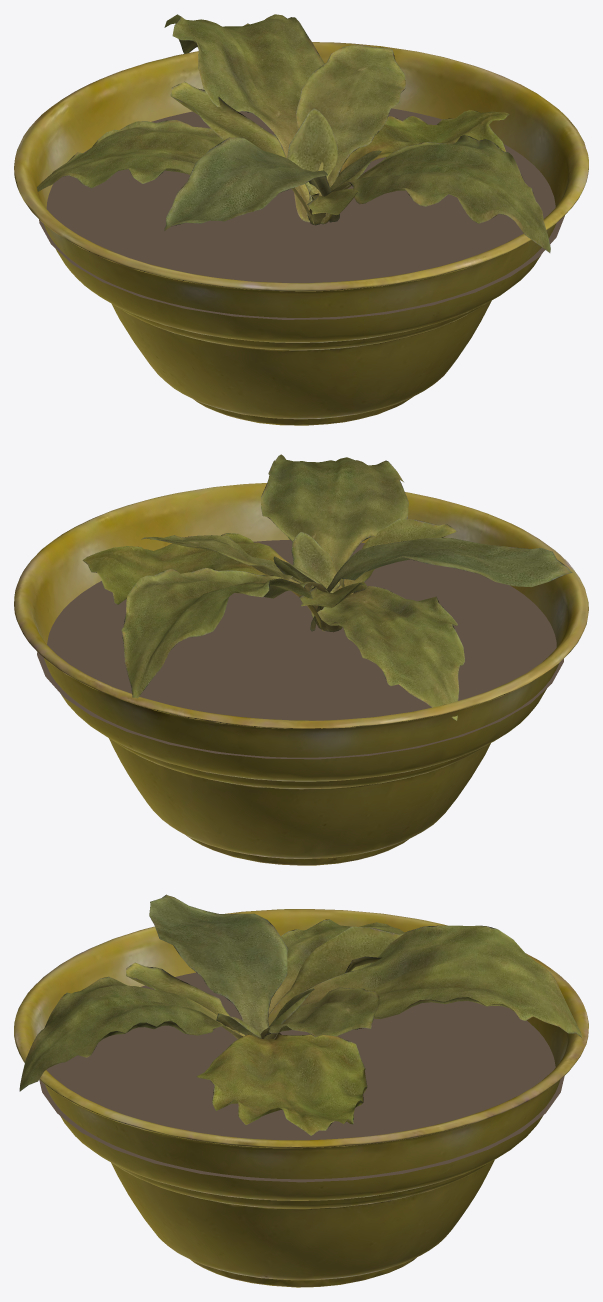
File: ph-iceplant-bowl.glb
The picture shows the model from 3 angles, top to bottom: view 1: azimuth 30°, elevation 25°; view 2: azimuth 150°, elevation 25°; view 3: azimuth 270°, elevation 25°; orthographic projection.
Visible parts, largest first — view 1: Ecoforms_Plant_Bowl_Atlas_Low, crystalline_iceplant_a_LOD0, soil; view 2: Ecoforms_Plant_Bowl_Atlas_Low, crystalline_iceplant_a_LOD0, soil; view 3: Ecoforms_Plant_Bowl_Atlas_Low, crystalline_iceplant_a_LOD0, soil.
Boxes of the visible parts, bbox=[...] form: Ecoforms_Plant_Bowl_Atlas_Low: bbox=[14, 42, 588, 425]; crystalline_iceplant_a_LOD0: bbox=[37, 14, 550, 252]; soil: bbox=[39, 108, 564, 319]; Ecoforms_Plant_Bowl_Atlas_Low: bbox=[14, 483, 588, 865]; crystalline_iceplant_a_LOD0: bbox=[82, 454, 572, 720]; soil: bbox=[37, 539, 563, 759]; Ecoforms_Plant_Bowl_Atlas_Low: bbox=[14, 909, 588, 1287]; crystalline_iceplant_a_LOD0: bbox=[19, 894, 581, 1135]; soil: bbox=[39, 972, 564, 1182].
Bounding box in the file's own units: 0.3219 × 0.1853 × 0.322.
Materials: 3 (2 with a texture image).
